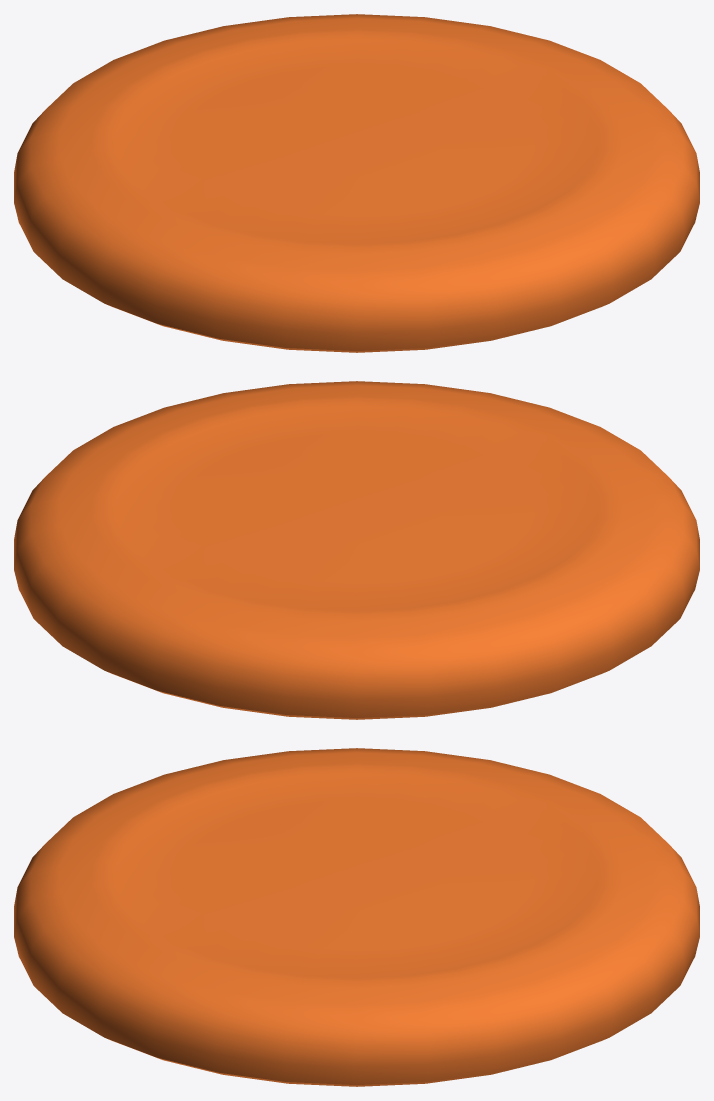
The model's file is frisbee.glb.
3 renders of one model, top to bottom at view 1: azimuth 30°, elevation 25°; view 2: azimuth 150°, elevation 25°; view 3: azimuth 270°, elevation 25°, orthographic.
Parts seen in each view (by area): view 1: frisbee; view 2: frisbee; view 3: frisbee.
Boxes of the visible parts, x1,y1,x2,y2 form: frisbee: (14, 14, 699, 352); frisbee: (14, 381, 699, 719); frisbee: (14, 748, 699, 1086).
Bounding box in the file's own units: 0.2704 × 0.032 × 0.2689.
